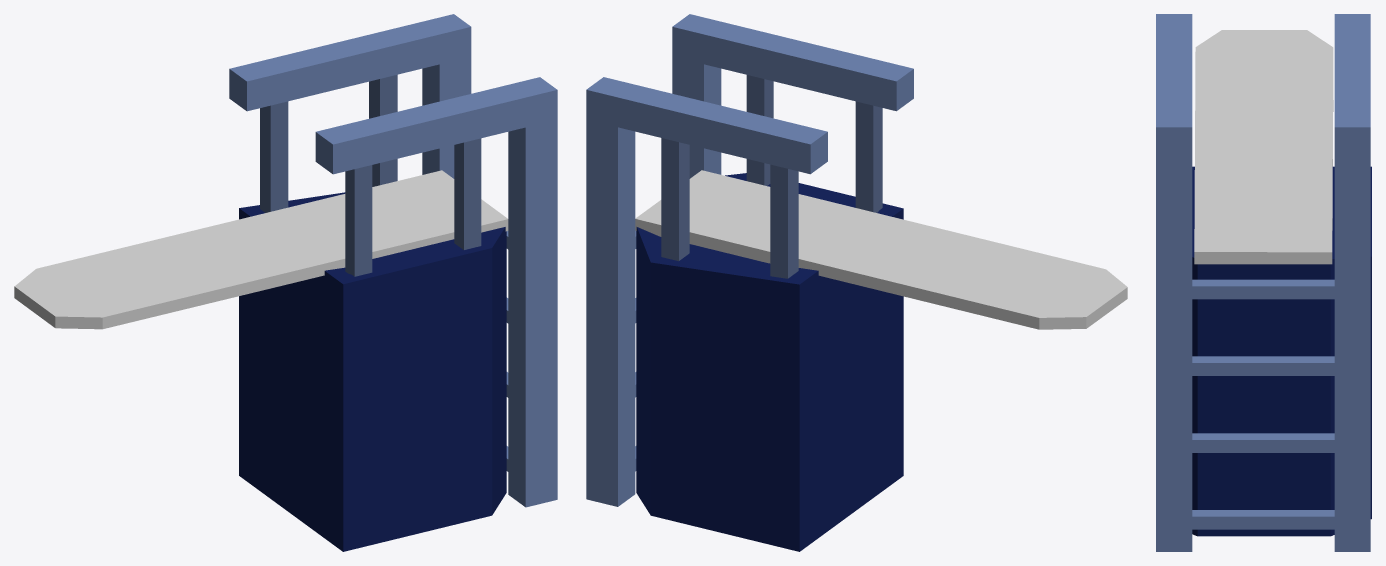
The model's file is PoolBox.FBX.
3 views of the same model, side by side, from view 1: azimuth 30°, elevation 25°; view 2: azimuth 150°, elevation 25°; view 3: azimuth 270°, elevation 25° (orthographic). The views are drawn at different scales.
Parts seen in each view (by area): view 1: PoolBox; view 2: PoolBox; view 3: PoolBox.
Part boxes in pixels (x1=…): PoolBox: x1=14, y1=14, x2=557, y2=551; PoolBox: x1=586, y1=14, x2=1127, y2=551; PoolBox: x1=1156, y1=14, x2=1371, y2=551.
Bounding box in the file's own units: 25.5 × 21.24 × 9.79.
